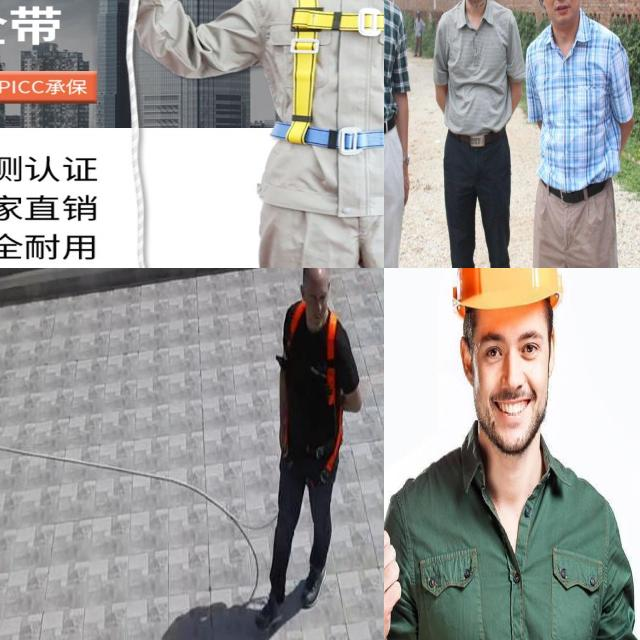Harness: (276, 0, 384, 206), (326, 311, 344, 476)
No_Ear-Protection: (533, 0, 587, 32), (456, 328, 480, 390)
No_Glasses: (476, 324, 548, 372)
